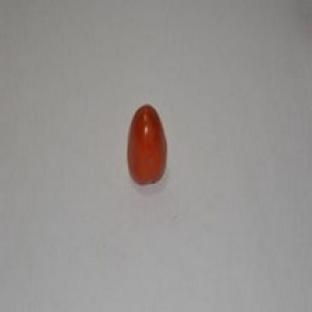Tomato: (127, 105, 167, 183)
